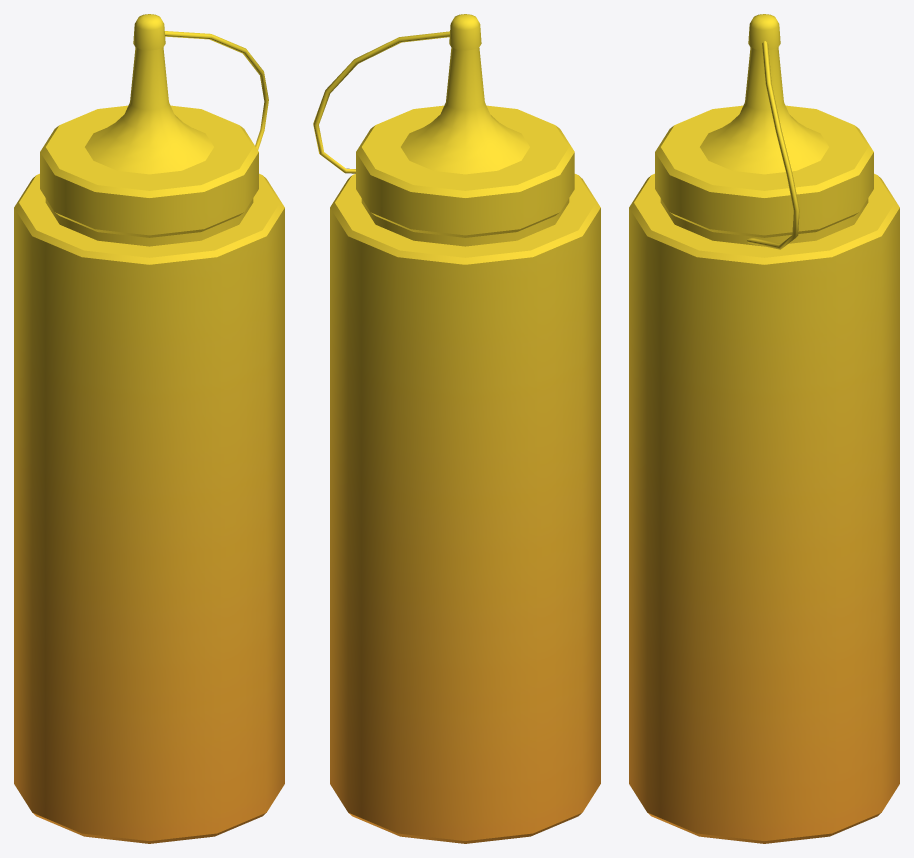
The model's file is Mustard.fbx.
3 renders of one model, left to right at view 1: azimuth 30°, elevation 25°; view 2: azimuth 150°, elevation 25°; view 3: azimuth 270°, elevation 25°, orthographic.
Visible parts, largest first — view 1: Mustard; view 2: Mustard; view 3: Mustard.
Part boxes in pixels (<box>): Mustard: <box>14,14,284,843</box>; Mustard: <box>313,14,600,843</box>; Mustard: <box>629,14,899,843</box>.
Bounding box in the file's own units: 46.07 × 42.7 × 134.
